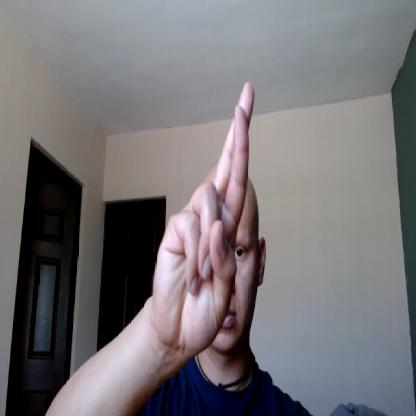R: (155, 79, 255, 345)
